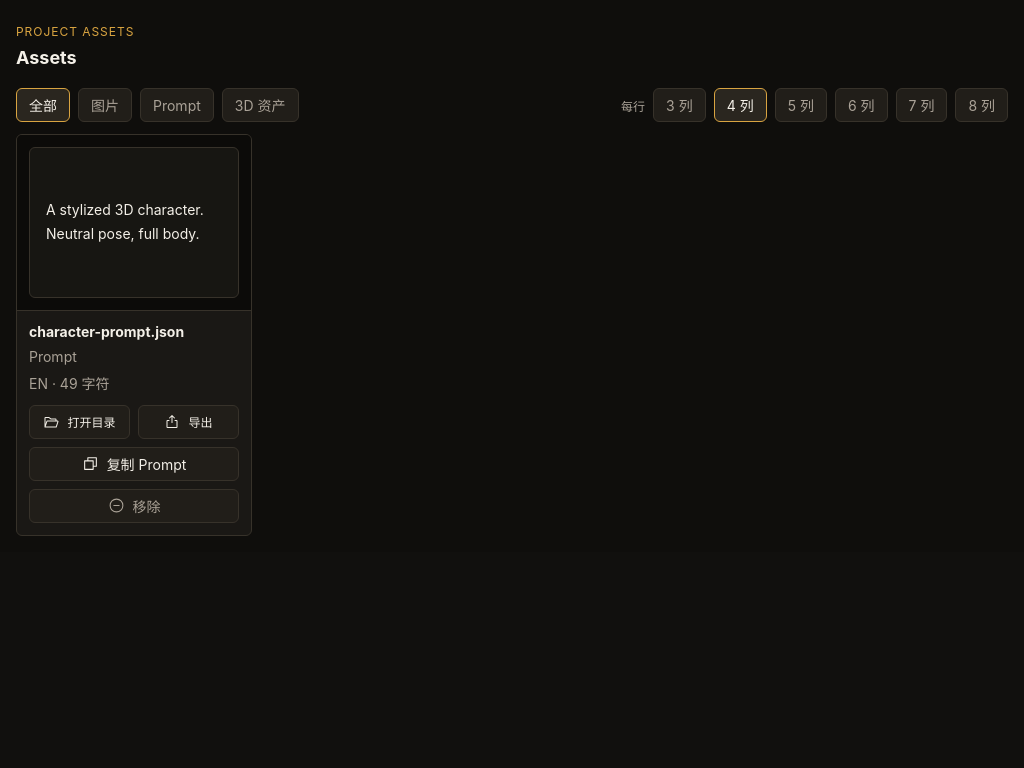
Test: AssetBrowser › loads a prompt near the viewport and copies its full managed text without changing current
This screenshot has width=1024, height=768.
Check: the text "A stylized 3D character. Neutral pose, full body." is shown, box [46,198,222,246]
What coordinates should you click on to do the following:
click the button "复制 Prompt"
I would click on:
 (134, 464)
Its box is [29,446,239,480].
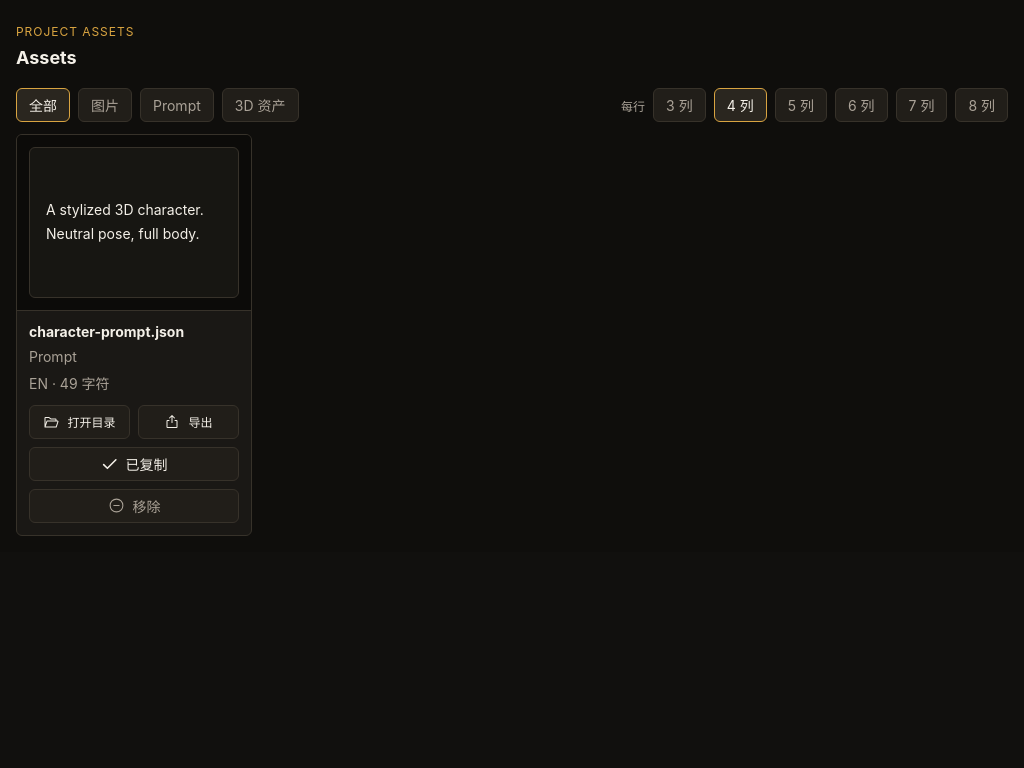
Check: the button "已复制" is shown, box [29,446,239,480]
